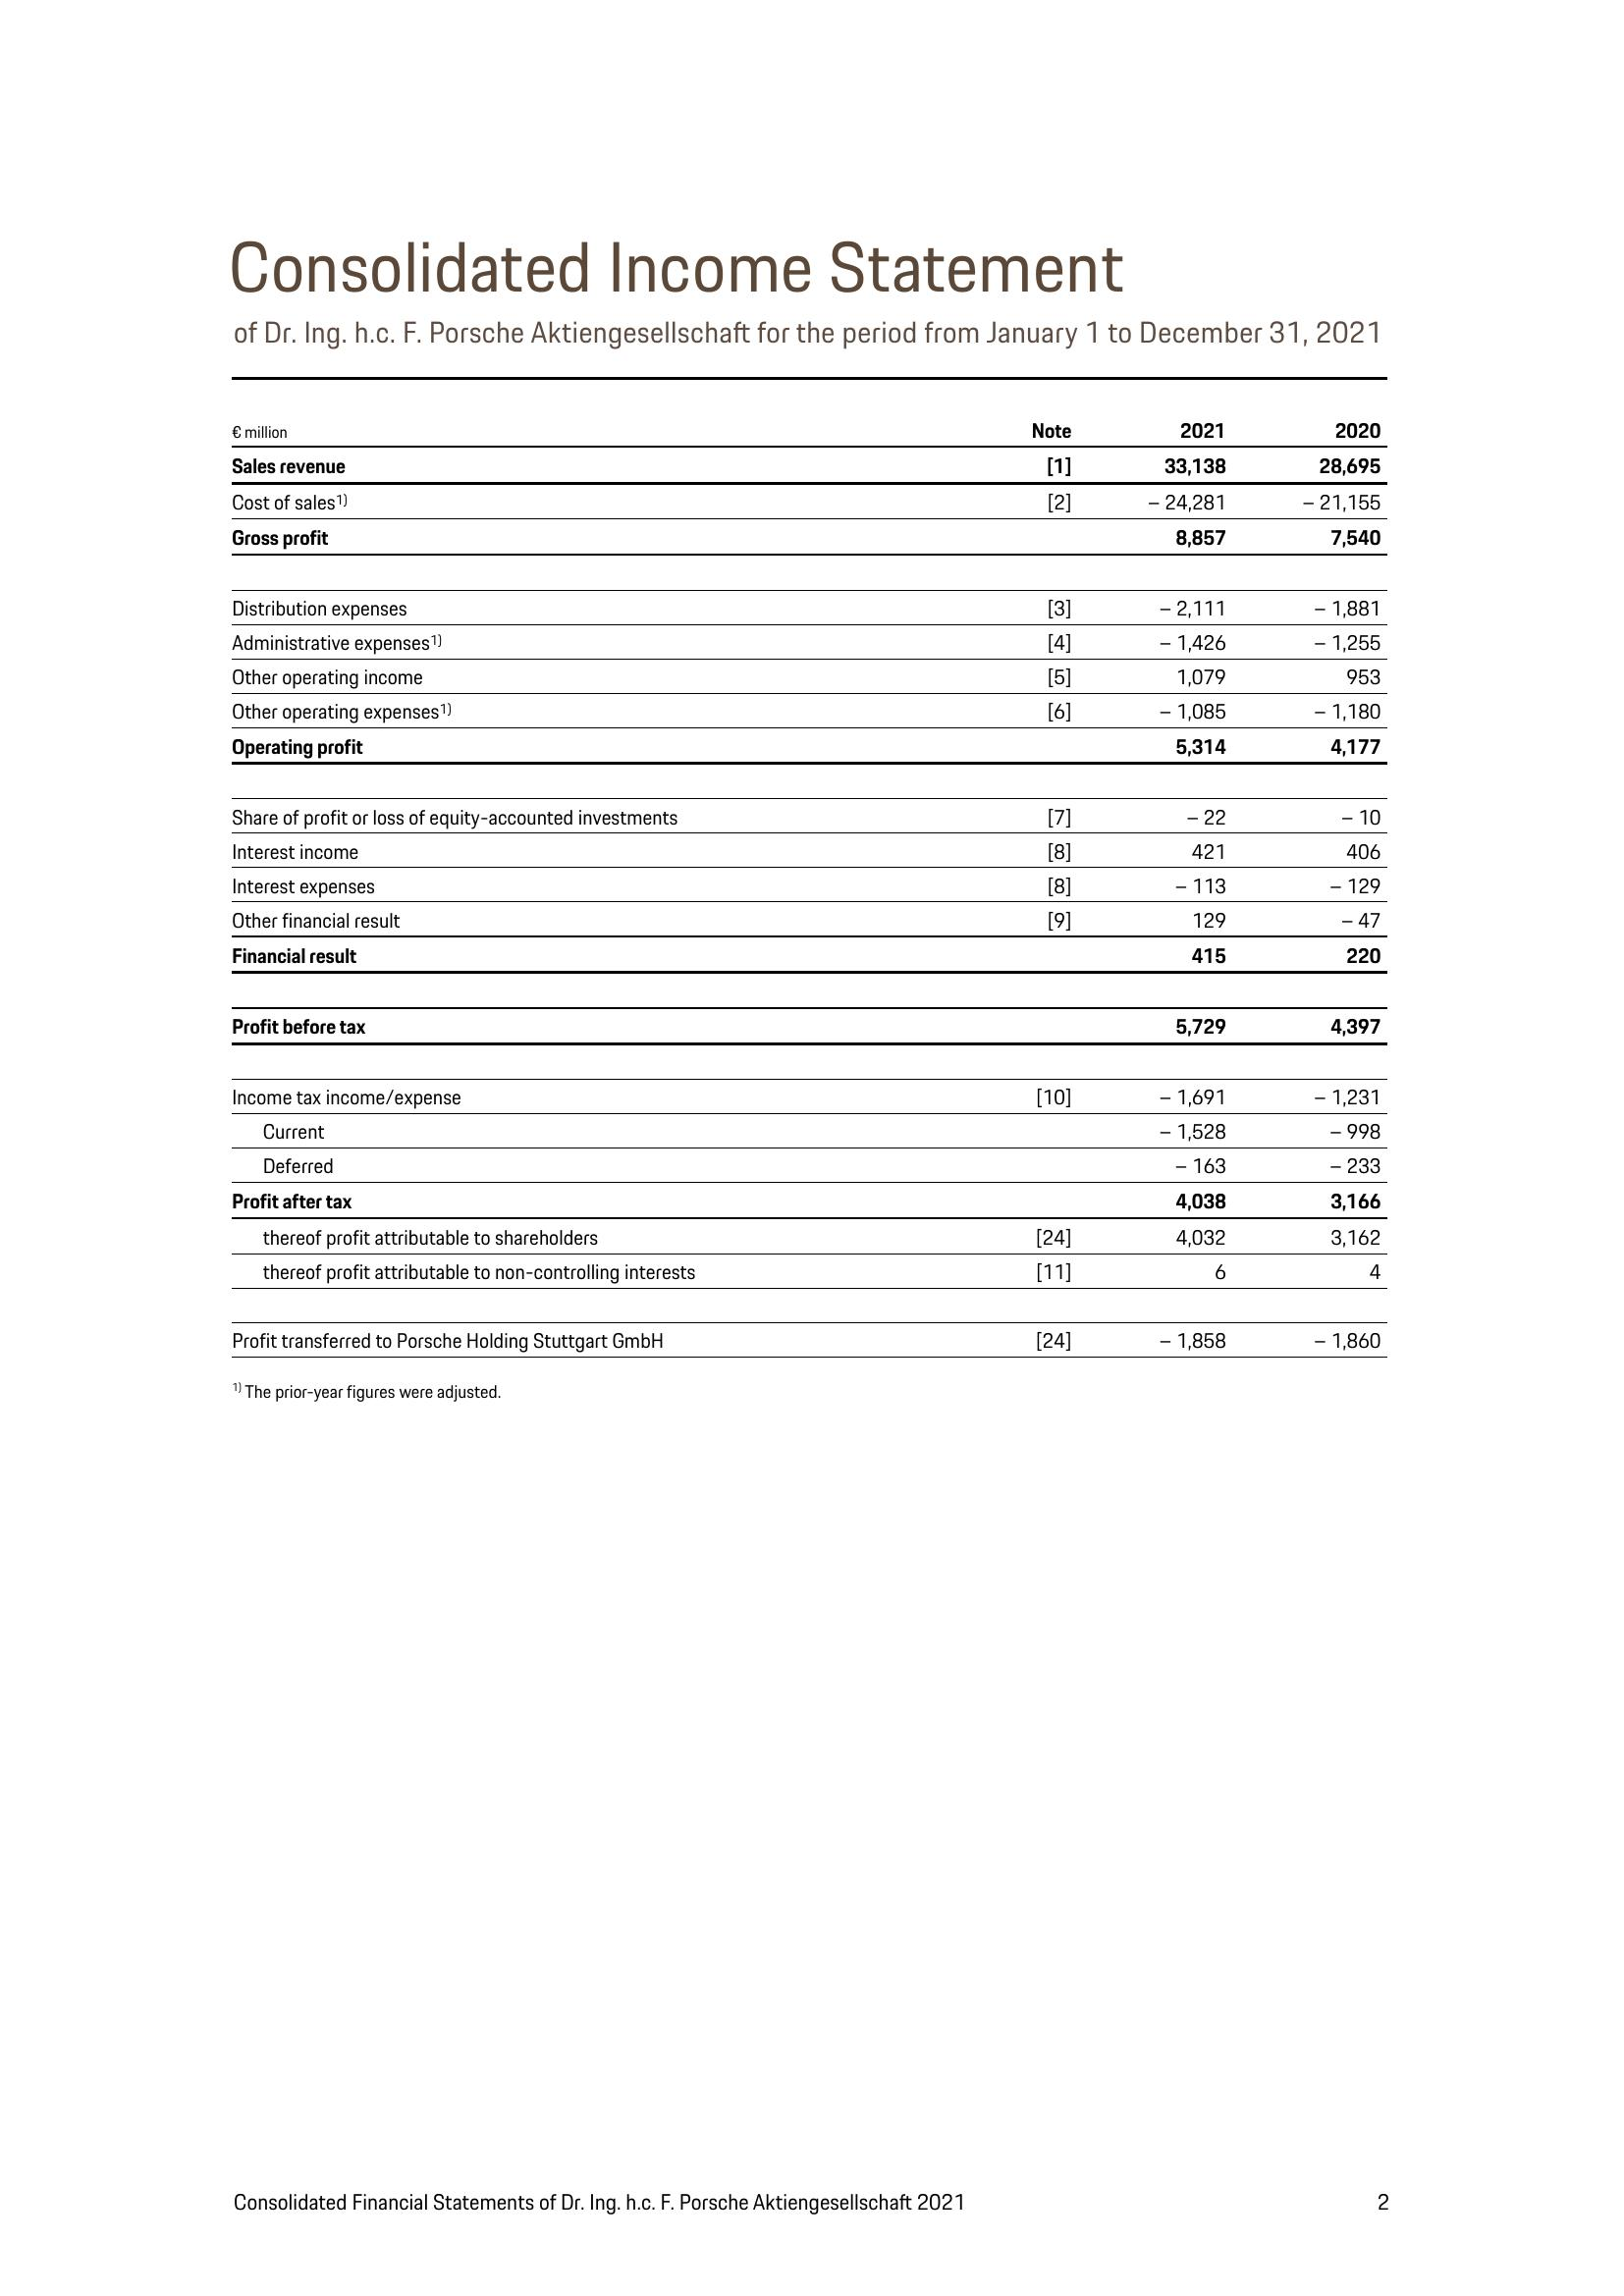Footer: (0, 2143, 1624, 2296)
Header: (0, 0, 1624, 202)
Table: (158, 358, 1411, 1426)
